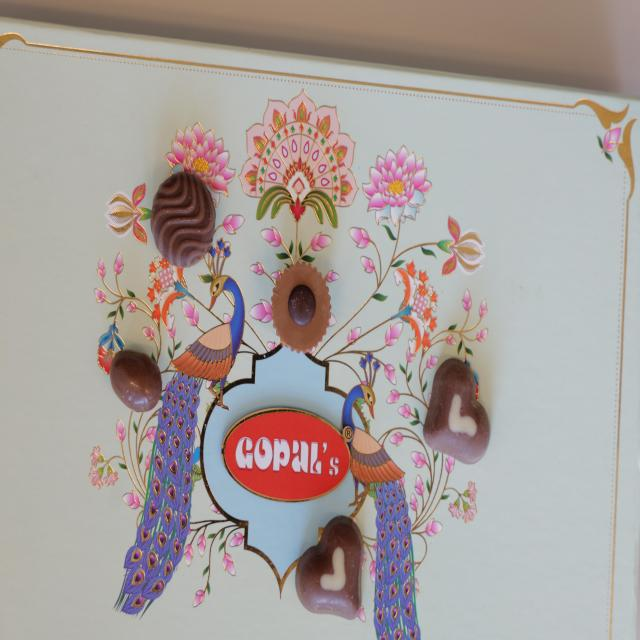Jelly_Milk: (110, 349, 161, 414)
Noblesse: (270, 260, 332, 354)
Noir_authentique: (151, 171, 215, 267)
Passion_au_lait: (424, 357, 491, 465), (296, 515, 363, 620)
